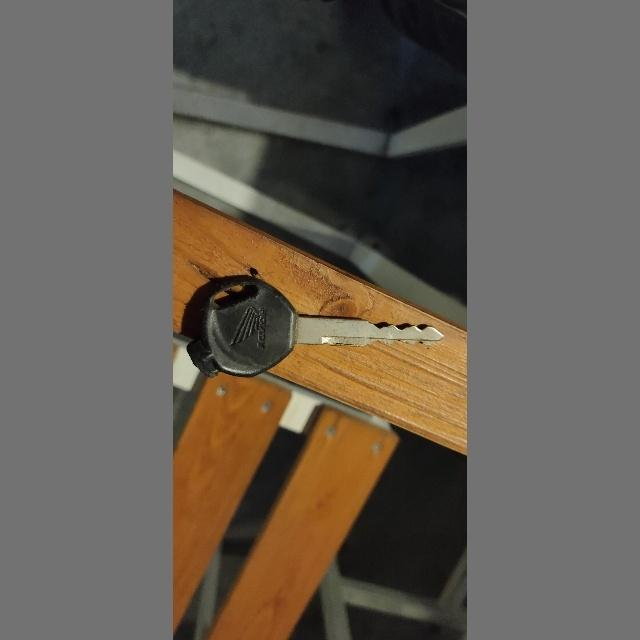Keys: (186, 270, 452, 386)
